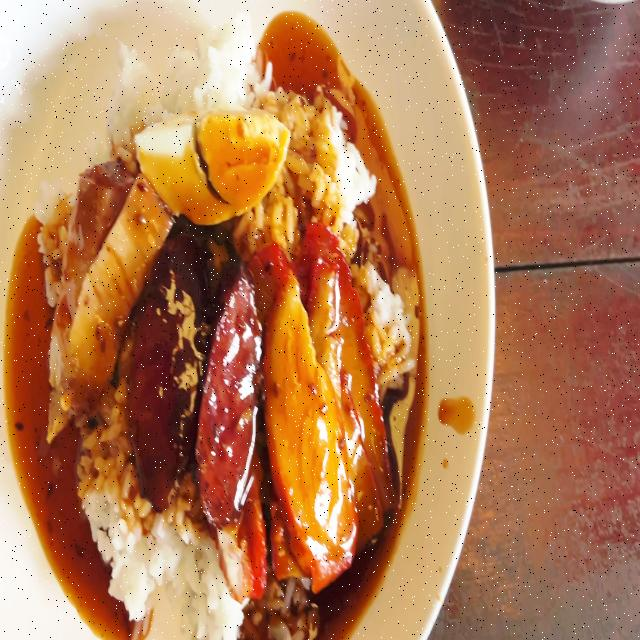boiled_egg: (139, 115, 285, 205)
chainese_sausage: (133, 250, 249, 498)
crispy_pork: (47, 159, 159, 416)
red_pork: (259, 235, 382, 551)
red_pork_and_crispy_pork: (36, 9, 413, 640)
rice: (123, 492, 218, 640), (104, 14, 262, 95), (292, 94, 362, 237), (92, 410, 137, 610)
